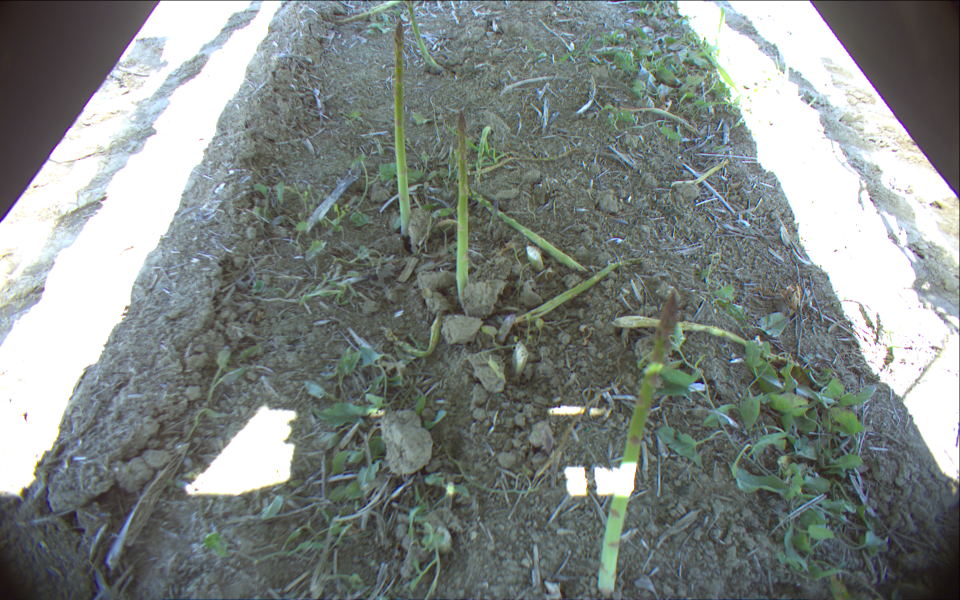aspa: (592, 287, 679, 598), (389, 20, 415, 242), (451, 107, 475, 312), (404, 1, 448, 75)
